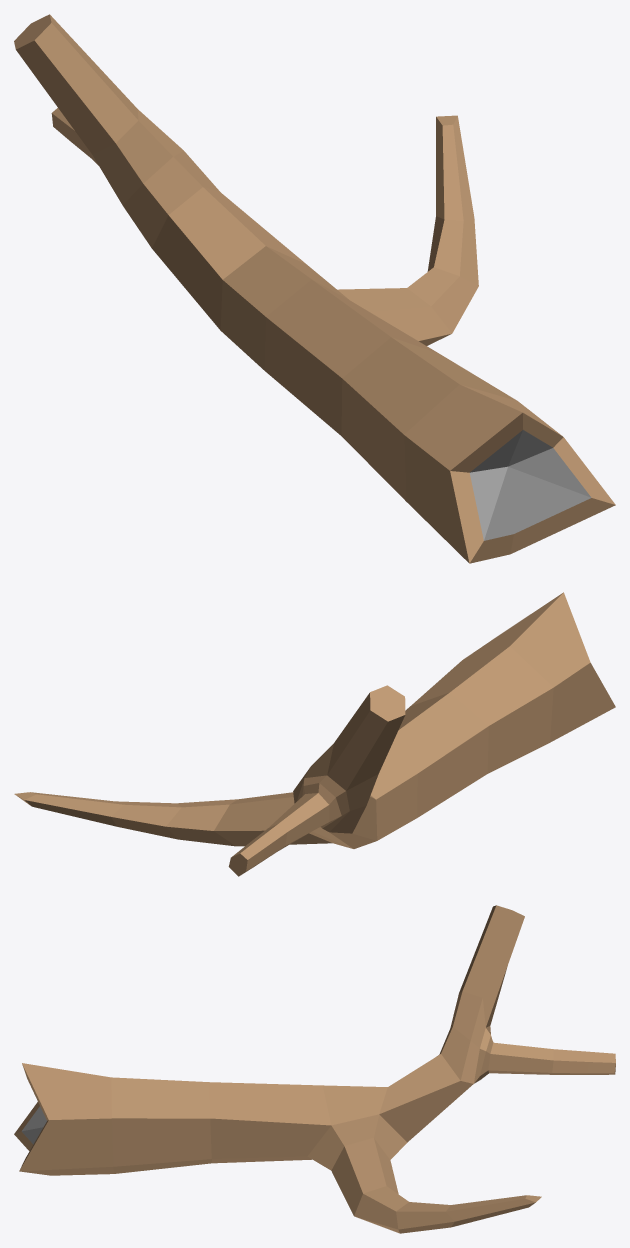
Rendered from full tree.fbx.
The picture shows the model from 3 angles, top to bottom: view 1: azimuth 30°, elevation 25°; view 2: azimuth 150°, elevation 25°; view 3: azimuth 270°, elevation 25°; orthographic projection. The views are drawn at different scales.
Parts seen in each view (by area): view 1: pCylinder1; view 2: pCylinder1; view 3: pCylinder1.
Part boxes in pixels (x1,y1,x2,y2): pCylinder1: (14,14,615,563); pCylinder1: (14,592,615,876); pCylinder1: (14,905,615,1233).
Bounding box in the file's own units: 3.01 × 2.03 × 4.92.
